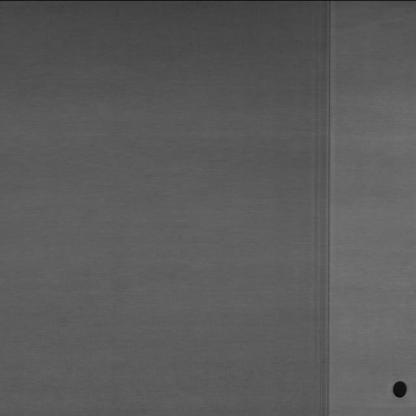welding_line: (314, 0, 346, 416)
